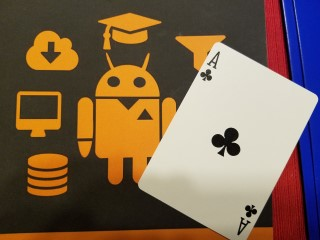AceOfClubs: (137, 42, 319, 239)
